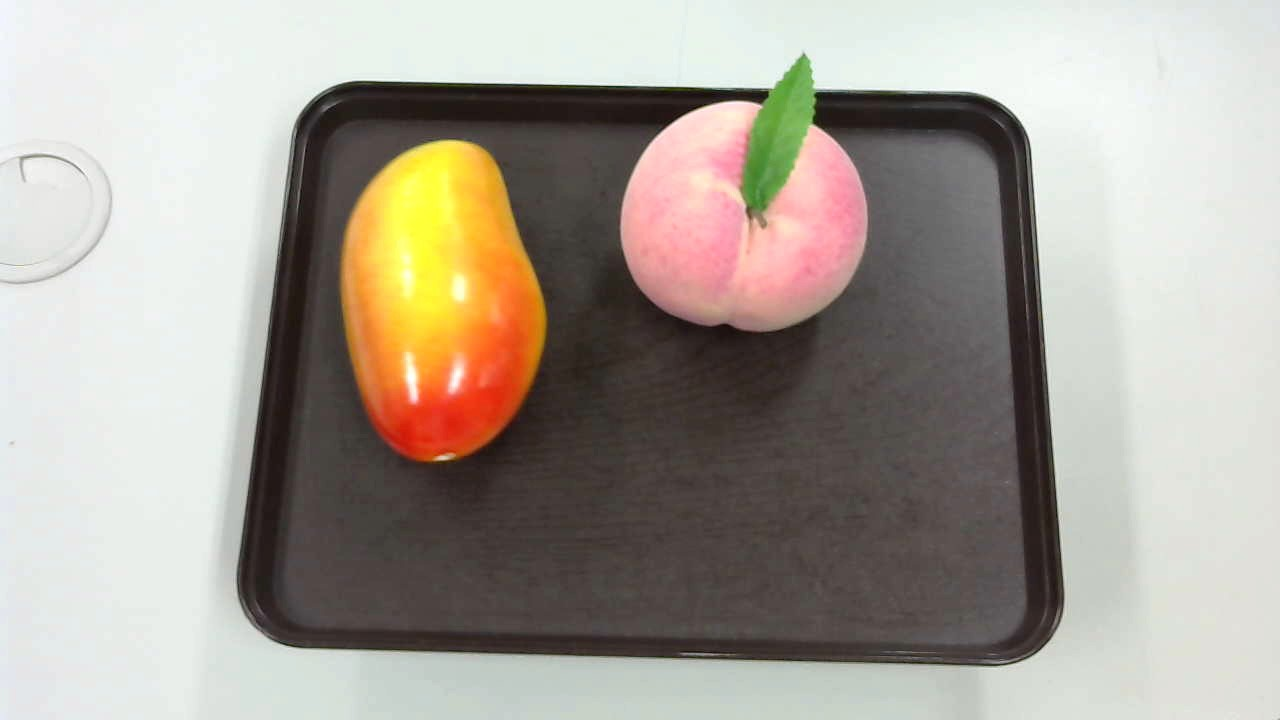peach: (614, 55, 872, 337)
red mango: (333, 135, 549, 467)
